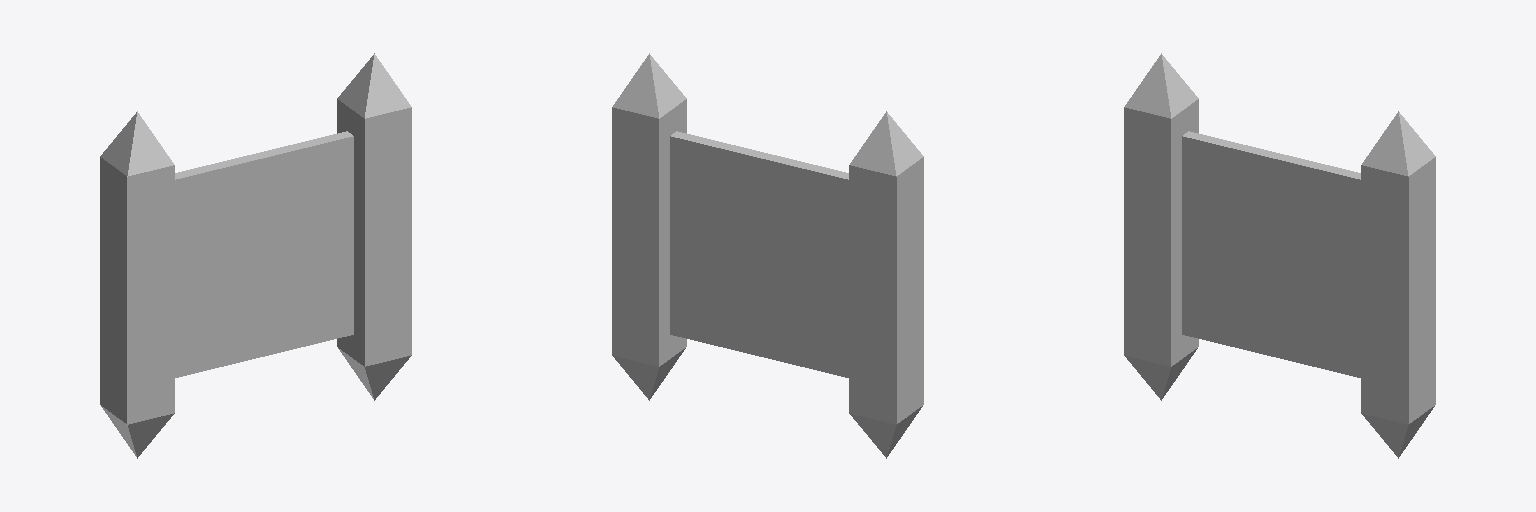
The model's file is pylon_indicator.obj.
3 renders of one model, left to right at view 1: azimuth 30°, elevation 25°; view 2: azimuth 150°, elevation 25°; view 3: azimuth 330°, elevation 25°, orthographic.
Parts seen in each view (by area): view 1: PYLON_INDICATOR_Cube; view 2: PYLON_INDICATOR_Cube; view 3: PYLON_INDICATOR_Cube.
Boxes of the visible parts, x1,y1,x2,y2 form: PYLON_INDICATOR_Cube: [100, 53, 411, 458]; PYLON_INDICATOR_Cube: [612, 53, 923, 458]; PYLON_INDICATOR_Cube: [1124, 53, 1435, 458].
Size of the model in its own units: 0.375 by 0.4375 by 0.0625.